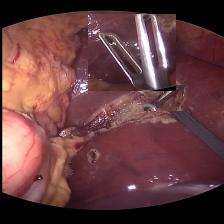Grasper: (87, 14, 174, 91), (143, 86, 186, 111)
